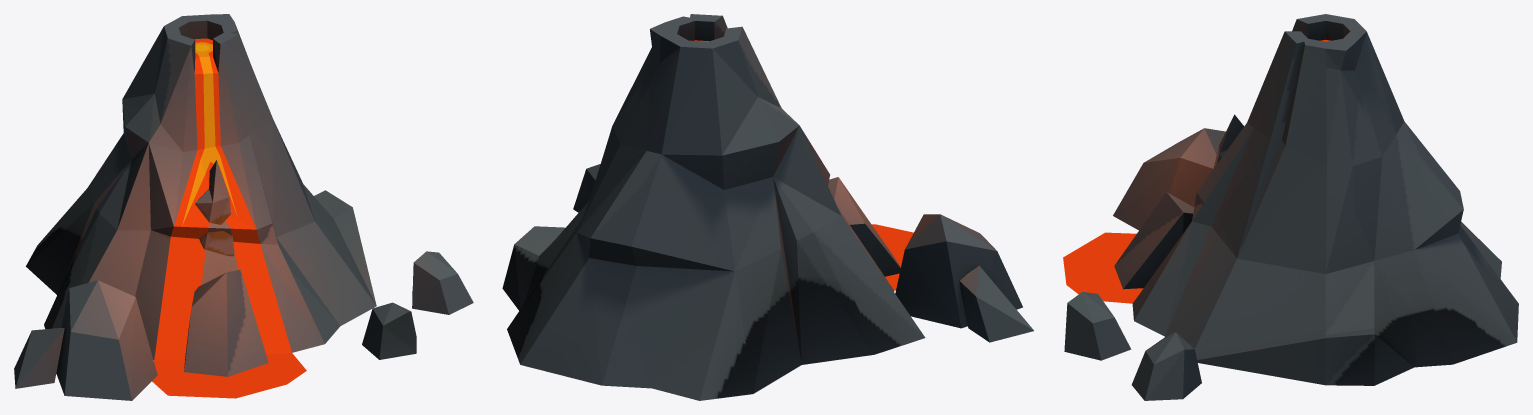
The model's file is Volcano_rock_3.fbx.
3 views of the same model, side by side, from view 1: azimuth 30°, elevation 25°; view 2: azimuth 150°, elevation 25°; view 3: azimuth 270°, elevation 25° (orthographic). The views are drawn at different scales.
Parts seen in each view (by area): view 1: Volcano_rock_3; view 2: Volcano_rock_3; view 3: Volcano_rock_3.
Part boxes in pixels (left/top/right/bottom): Volcano_rock_3: left=14, top=14, right=473, bottom=400; Volcano_rock_3: left=502, top=14, right=1033, bottom=400; Volcano_rock_3: left=1063, top=14, right=1518, bottom=400.
Bounding box in the file's own units: 6.07 × 3.44 × 5.22.
1 material, 1 textured.
